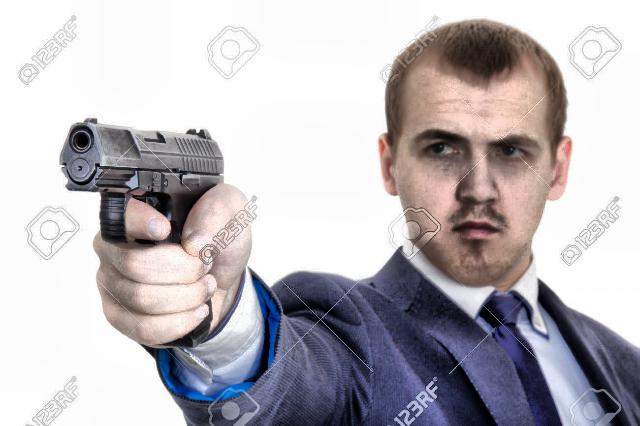pistol: (55, 115, 225, 250)
